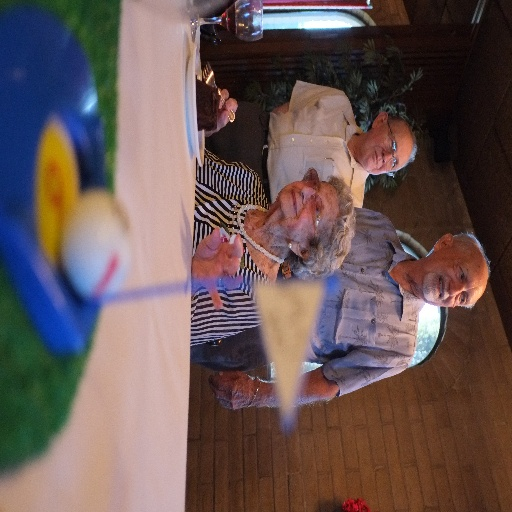hand: (192, 228, 245, 307), (207, 368, 256, 415), (208, 85, 239, 139)
